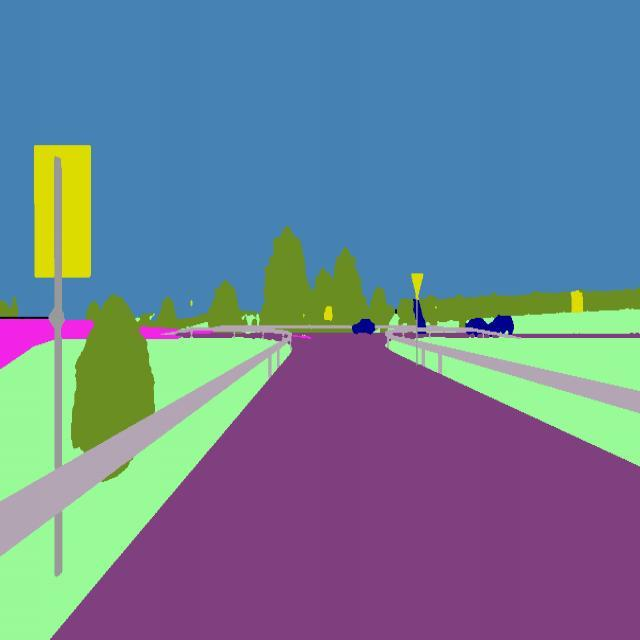safe: (404, 296, 432, 342), (487, 309, 517, 338), (350, 315, 376, 342), (462, 312, 489, 336)
